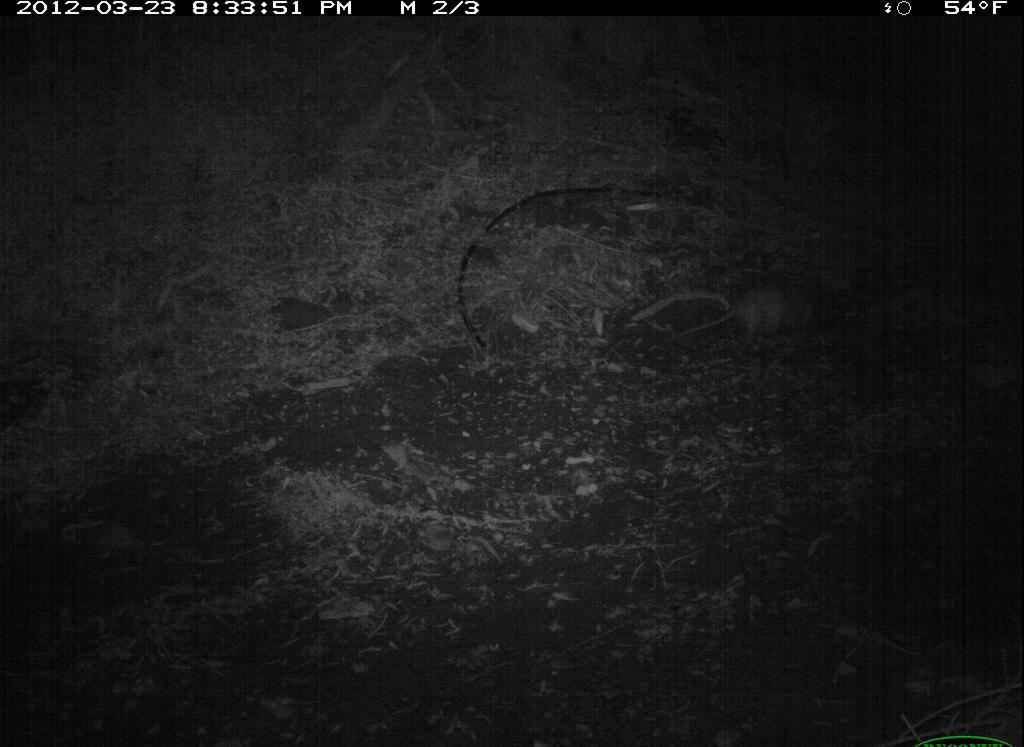opossum: (646, 253, 885, 373)
